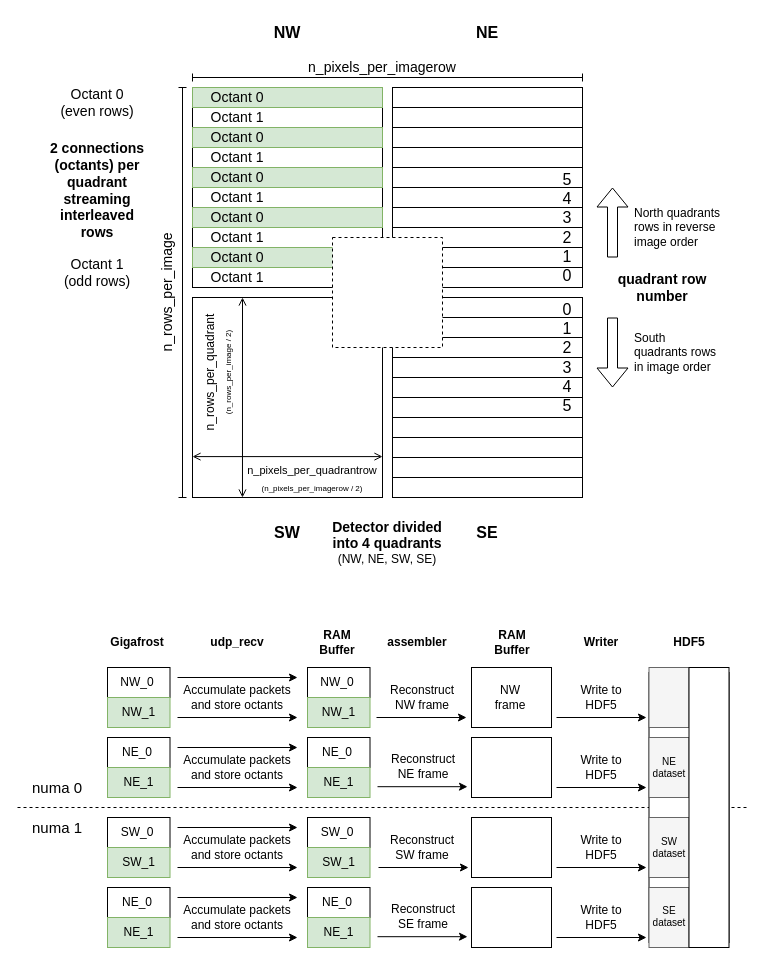
Some shapes in this 766 by 965 pixel diagram are drawn without their labels. Here are the shapes that lost their labels. From the top down, the box of each, then its label:
(332, 236, 442, 348): Detector ROI around center of image
(648, 666, 689, 728): NW dataset
(470, 736, 552, 798): NE frame
(688, 666, 729, 948): Virtual dataset
(470, 816, 552, 878): SW frame
(470, 886, 552, 948): SE frame
